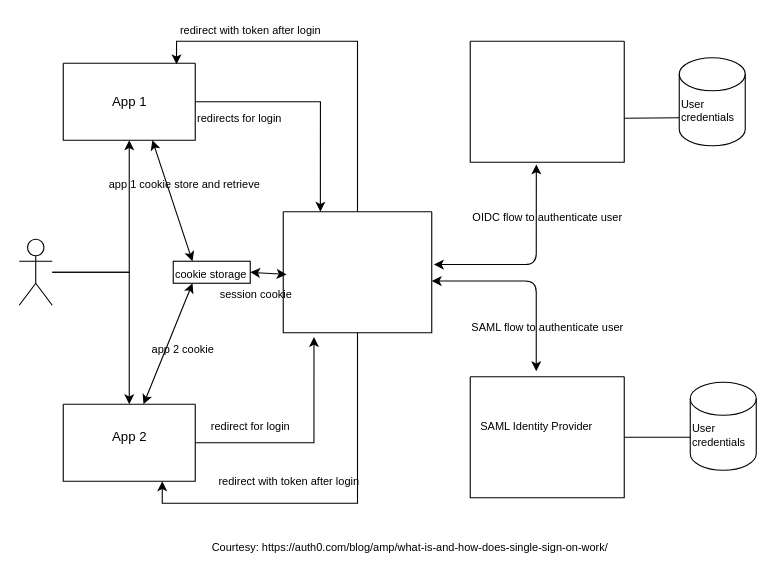
This 776x576 diagram has some shape labels left out. The centre of each missing label's shape, as x and y in pixels:
Auth0 central domain server: [357,272]
OIDC Identity Provider: [546,101]
User: [35,271]
